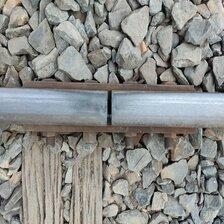railway-gap: (83, 79, 134, 135)
